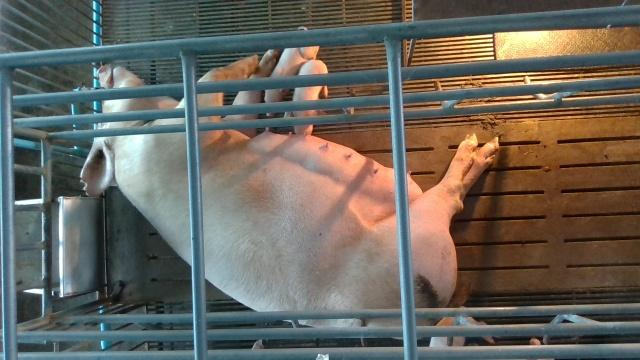piglet: (265, 47, 320, 117), (284, 59, 328, 136)
sow-sleep-lactate: (81, 49, 499, 327)
